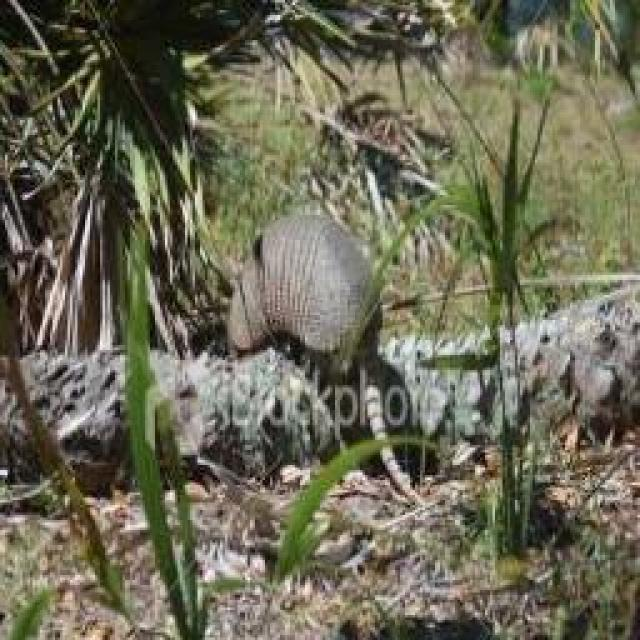not_pig: (223, 205, 385, 375)
